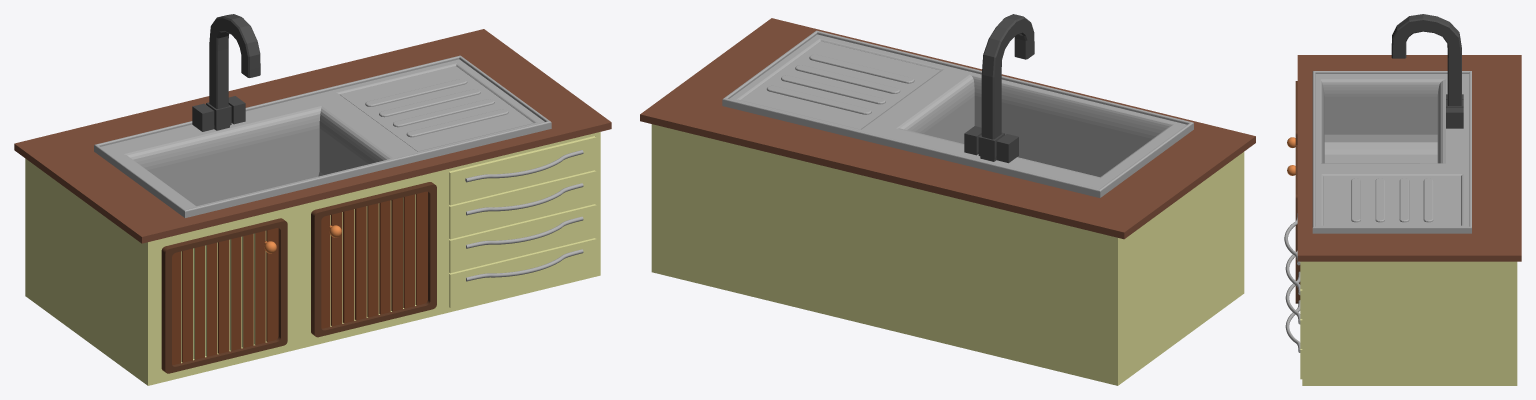
Rendered from Sink3D.fbx.
3 views of the same model, side by side, from view 1: azimuth 30°, elevation 25°; view 2: azimuth 150°, elevation 25°; view 3: azimuth 270°, elevation 25° (orthographic). The views are drawn at different scales.
Parts seen in each view (by area): view 1: SinkCounter, Sink; view 2: SinkCounter, Sink; view 3: SinkCounter, Sink.
Part boxes in pixels (<box>): SinkCounter: <box>14,29,611,385</box>; Sink: <box>94,14,551,217</box>; SinkCounter: <box>640,18,1255,385</box>; Sink: <box>722,14,1193,197</box>; SinkCounter: <box>1284,55,1521,385</box>; Sink: <box>1312,14,1471,233</box>.
Size of the model in its own units: 6.73 by 3.81 by 3.36.
